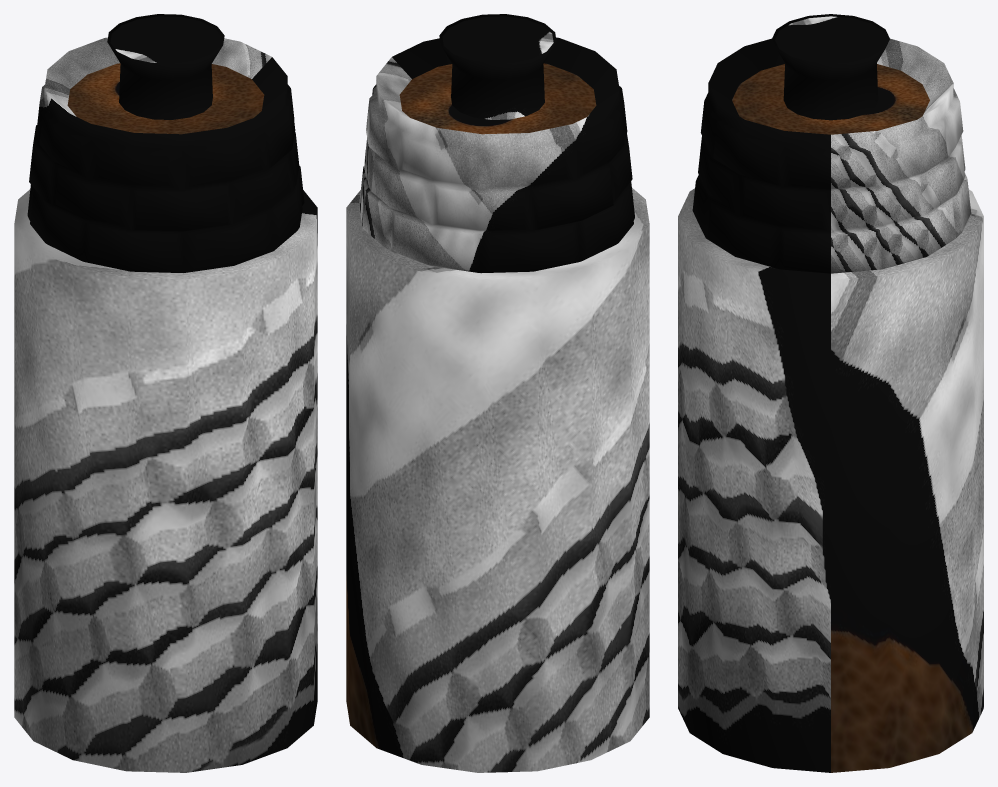
File: fountain1.dae
3 views of the same model, side by side, from view 1: azimuth 30°, elevation 25°; view 2: azimuth 150°, elevation 25°; view 3: azimuth 270°, elevation 25° (orthographic).
Visible parts, largest first — view 1: fountain-Node; view 2: fountain-Node; view 3: fountain-Node.
Part boxes in pixels (<box>): fountain-Node: <box>14,14,317,772</box>; fountain-Node: <box>346,14,649,772</box>; fountain-Node: <box>678,14,983,772</box>.
Size of the model in its own units: 61.68 by 61.68 by 149.
